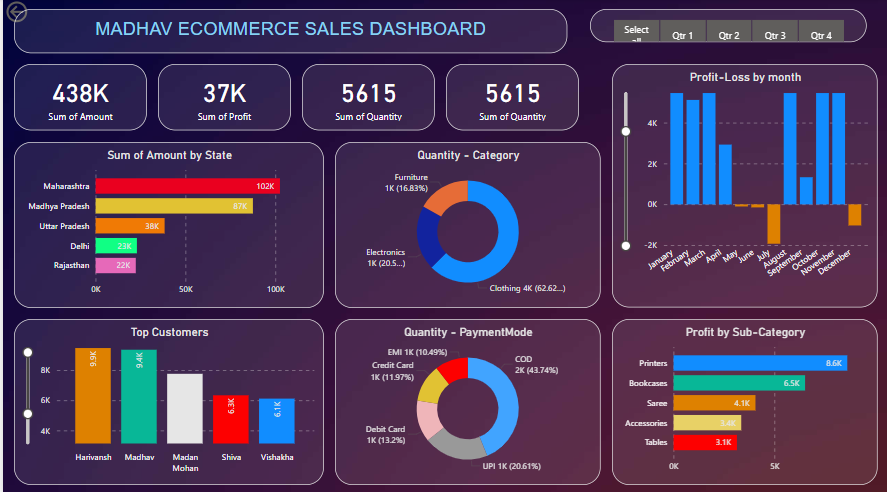

The page's visual inventory and layout, read from the dashboard file:
{"tool":"powerbi","page":{"name":"Page 1","canvas":[1280,720],"ordinal":0},"visuals":[{"type":"actionButton","box":[0,0,100,40],"z":0},{"type":"barChart","fields":{"Category":["Orders.State"],"Y":["Details.Amount"]},"box":[16,208,448,240],"z":1000},{"type":"donutChart","title":"Quantity - Category","fields":{"Series":["Details.Category"],"Category":["Details.Category"],"Y":["Details.Quantity"]},"box":[480,208,384,240],"z":2000},{"type":"columnChart","title":"Profit-Loss by month","fields":{"Y":["Details.Profit"],"Category":["Orders.Order Date.Variation.Date Hierarchy.Month"]},"box":[880,96,384,352],"z":3000},{"type":"columnChart","title":"Top Customers","fields":{"Category":["Orders.CustomerName"],"Y":["Details.Amount"]},"box":[16,464,448,240],"z":4000},{"type":"donutChart","title":"Quantity - PaymentMode","fields":{"Y":["Details.Quantity"],"Category":["Details.PaymentMode"]},"box":[480,464,384,240],"z":5000},{"type":"clusteredBarChart","title":"Profit by Sub-Category","fields":{"Y":["Details.Profit"],"Category":["Details.Sub-Category"]},"box":[880,464,384,240],"z":6000},{"type":"textbox","box":[16,16,800,64],"z":7000},{"type":"slicer","fields":{"Values":["Orders.Order Date.Variation.Date Hierarchy.Quarter"]},"box":[848,16,400,48],"z":8000},{"type":"card","fields":{"Values":["Details.Amount"]},"box":[16,96,192,96],"z":9000},{"type":"card","fields":{"Values":["Details.Profit"]},"box":[224,96,192,96],"z":10000},{"type":"card","fields":{"Values":["Details.Quantity"]},"box":[432,96,192,96],"z":11000},{"type":"card","fields":{"Values":["Details.Quantity"]},"box":[640,96,192,96],"z":12000}]}

Visuals, with their boxes in screenshot pixels (x1, y1, x2, y2), scaled from the page's 1280x720 canvas onto the 887x492 screenshot:
actionButton: 0 0 69 27
barChart - Orders.State x Details.Amount: 11 142 322 306
"Quantity - Category" donutChart: 333 142 599 306
"Profit-Loss by month" columnChart: 610 66 876 306
"Top Customers" columnChart: 11 317 322 481
"Quantity - PaymentMode" donutChart: 333 317 599 481
"Profit by Sub-Category" clusteredBarChart: 610 317 876 481
textbox: 11 11 565 55
slicer - Orders.Order Date.Variation.Date Hierarchy.Quarter: 588 11 865 44
card - Details.Amount: 11 66 144 131
card - Details.Profit: 155 66 288 131
card - Details.Quantity: 299 66 432 131
card - Details.Quantity: 444 66 577 131
